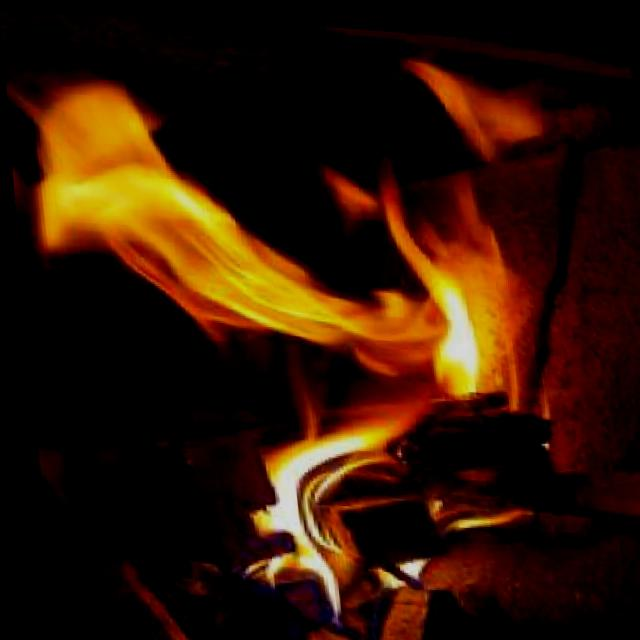Smoke: (5, 19, 533, 599)
